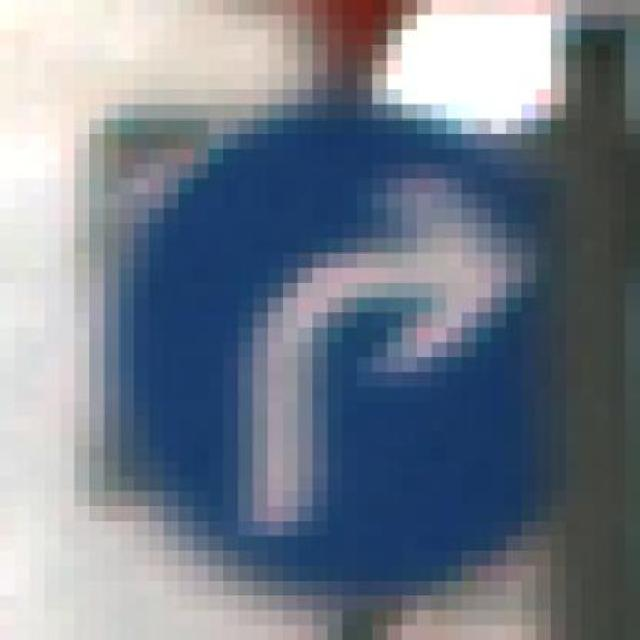Turn right ahead: (104, 89, 596, 611)
